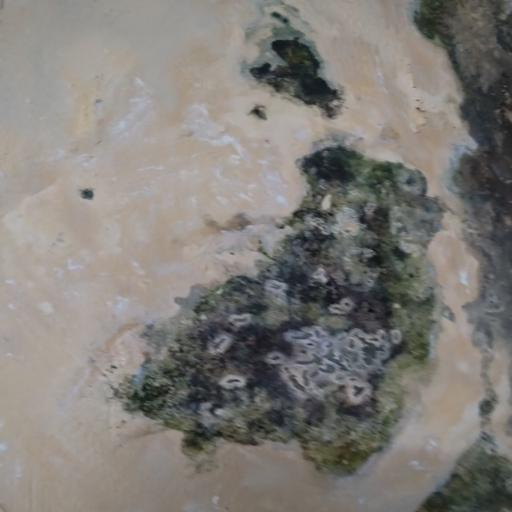algae: (132, 44, 512, 512)
